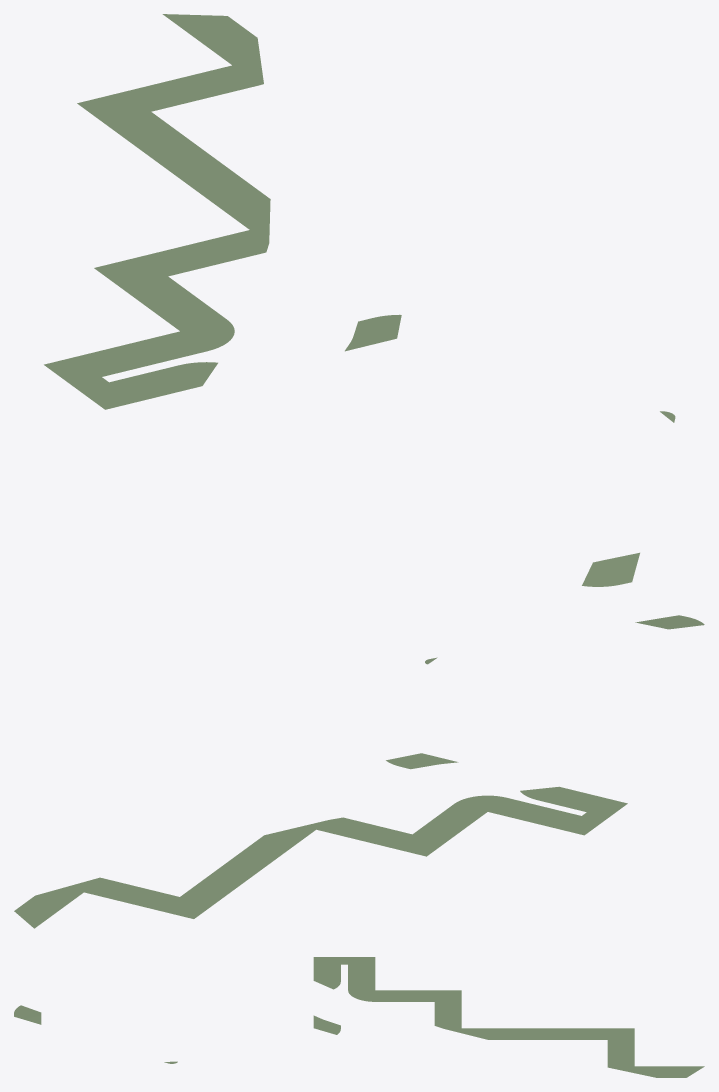
The model's file is SM_MPRR_CampusGreen_1_-1.fbx.
3 renders of one model, top to bottom at view 1: azimuth 30°, elevation 25°; view 2: azimuth 150°, elevation 25°; view 3: azimuth 270°, elevation 25°, orthographic. The views are drawn at different scales.
Visible parts, largest first — view 1: SM_MPRR_CampusGreen_1_-1; view 2: SM_MPRR_CampusGreen_1_-1; view 3: SM_MPRR_CampusGreen_1_-1.
Boxes of the visible parts, x1=… form: SM_MPRR_CampusGreen_1_-1: x1=44, y1=14, x2=675, y2=586; SM_MPRR_CampusGreen_1_-1: x1=14, y1=615, x2=704, y2=928; SM_MPRR_CampusGreen_1_-1: x1=14, y1=957, x2=704, y2=1077.
Size of the model in its own units: 5041 by 12176 by 82.55.
